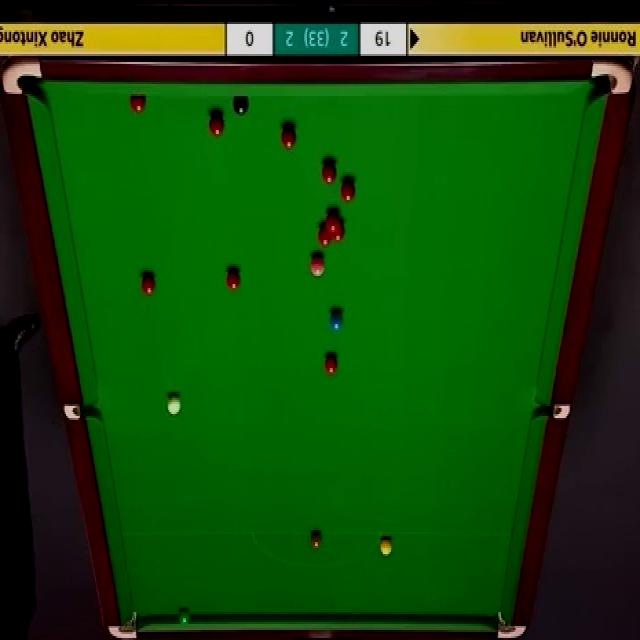black-ball: (232, 95, 248, 117)
blue-ball: (328, 311, 344, 332)
brown-ball: (310, 532, 322, 552)
green-ball: (177, 610, 190, 629)
pink-ball: (311, 254, 326, 278)
red-ball: (320, 160, 337, 189), (320, 349, 338, 376), (225, 267, 242, 294), (280, 123, 296, 151), (208, 110, 225, 136), (339, 179, 359, 201), (142, 271, 156, 296), (332, 218, 346, 242), (318, 222, 331, 246), (129, 97, 147, 114), (324, 210, 340, 229)
white-ball: (167, 394, 183, 417)
yellow-ball: (381, 538, 393, 554)
